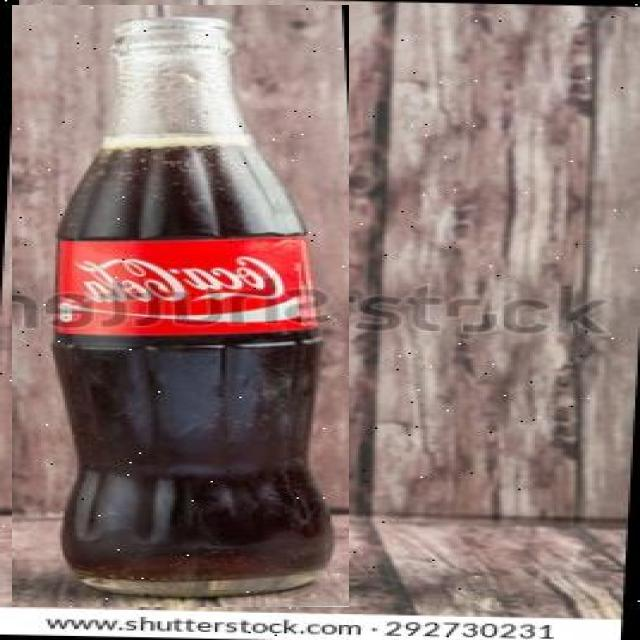coca-cola: (12, 5, 349, 608)
